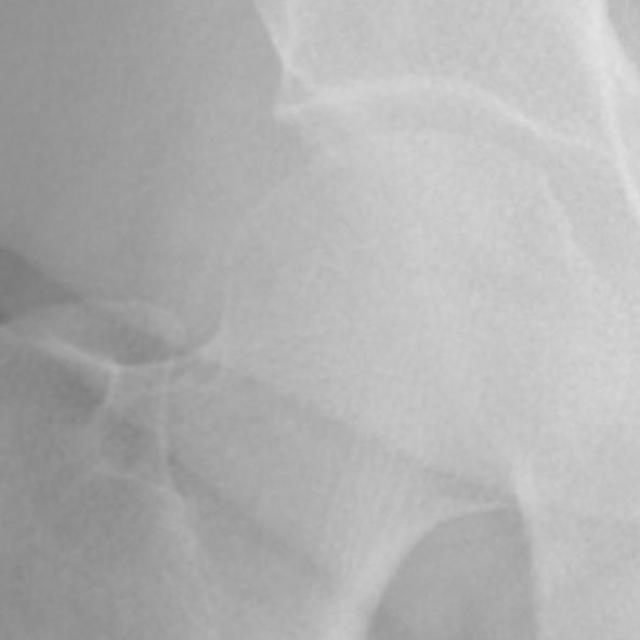Fitted_femural_head: (399, 130, 432, 399)
